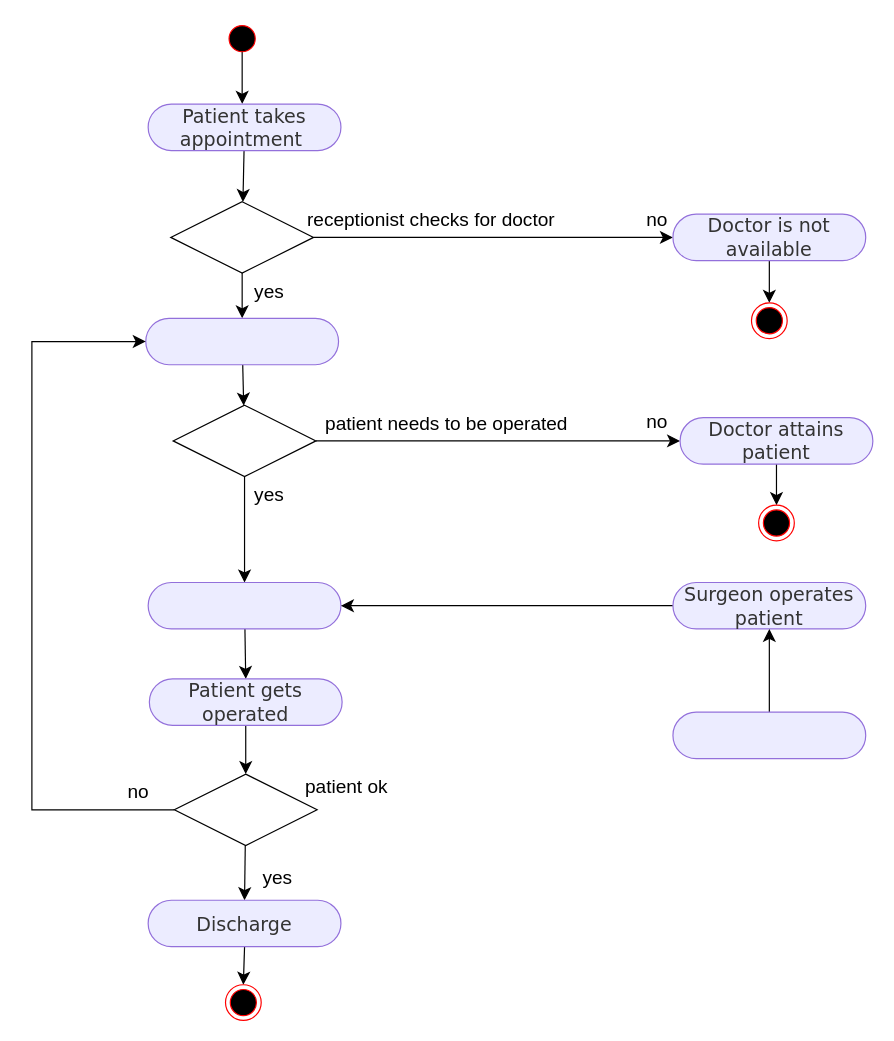
The diagram is 894 pixels wide and 1041 high, and some of its shapes have lost their labels. The shapes that lost their labels are listed below. From the top down, each one's box as (x1, y1, x2, y2) in pixels, then its label:
(145, 317, 339, 365): Patient consults doctor
(147, 581, 341, 629): Undergoes operation
(672, 711, 866, 759): Nurse assist surgeon
